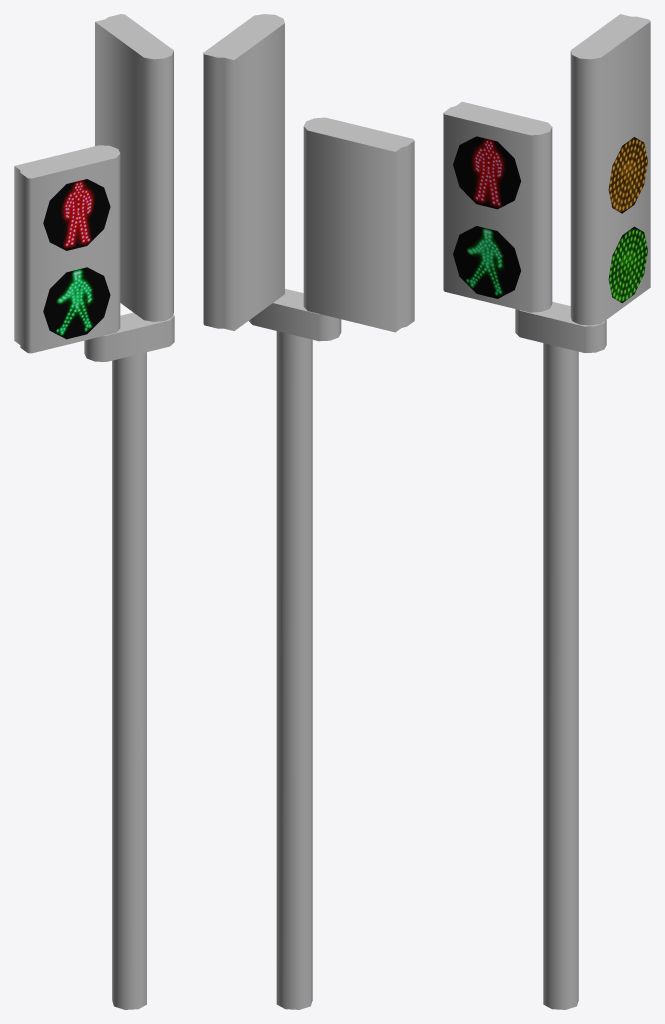
File: prop_trafficlight_LOD0.FBX
3 renders of one model, left to right at view 1: azimuth 30°, elevation 25°; view 2: azimuth 150°, elevation 25°; view 3: azimuth 330°, elevation 25°, orthographic. The views are drawn at different scales.
Visible parts, largest first — view 1: prop_trafficlight_LOD0, prop_trafficpede_red_LOD0, prop_trafficpede_green_LOD0; view 2: prop_trafficlight_LOD0; view 3: prop_trafficlight_LOD0, prop_trafficpede_red_LOD0, prop_trafficpede_green_LOD0, prop_trafficleds_green_LOD0, prop_trafficleds_orange_LOD0.
Part boxes in pixels (left/top/right/bottom): prop_trafficlight_LOD0: left=14, top=14, right=174, bottom=1009; prop_trafficpede_red_LOD0: left=43, top=179, right=110, bottom=250; prop_trafficpede_green_LOD0: left=43, top=267, right=110, bottom=339; prop_trafficlight_LOD0: left=203, top=14, right=414, bottom=1009; prop_trafficlight_LOD0: left=443, top=14, right=650, bottom=1009; prop_trafficpede_red_LOD0: left=453, top=136, right=520, bottom=209; prop_trafficpede_green_LOD0: left=453, top=226, right=520, bottom=298; prop_trafficleds_green_LOD0: left=608, top=226, right=647, bottom=302; prop_trafficleds_orange_LOD0: left=608, top=137, right=647, bottom=213.
Size of what is drawn, in the model's own units: 23.13 by 136 by 15.21.
